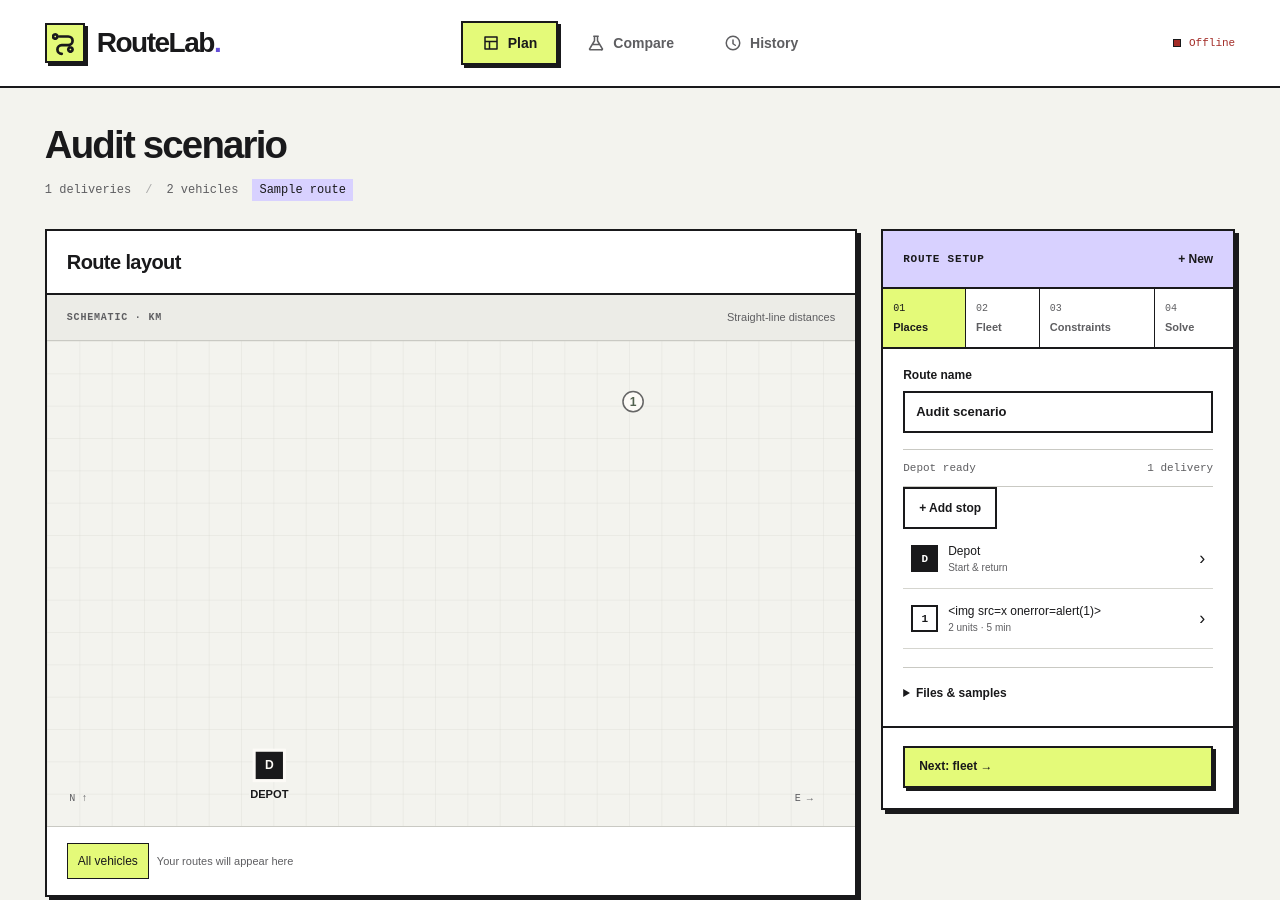
Scenario: workbench interactions › labels replans with the executed repair method in history
The image size is (1280, 900).
Click the button "History" at (761, 43), box [703, 21, 819, 65]
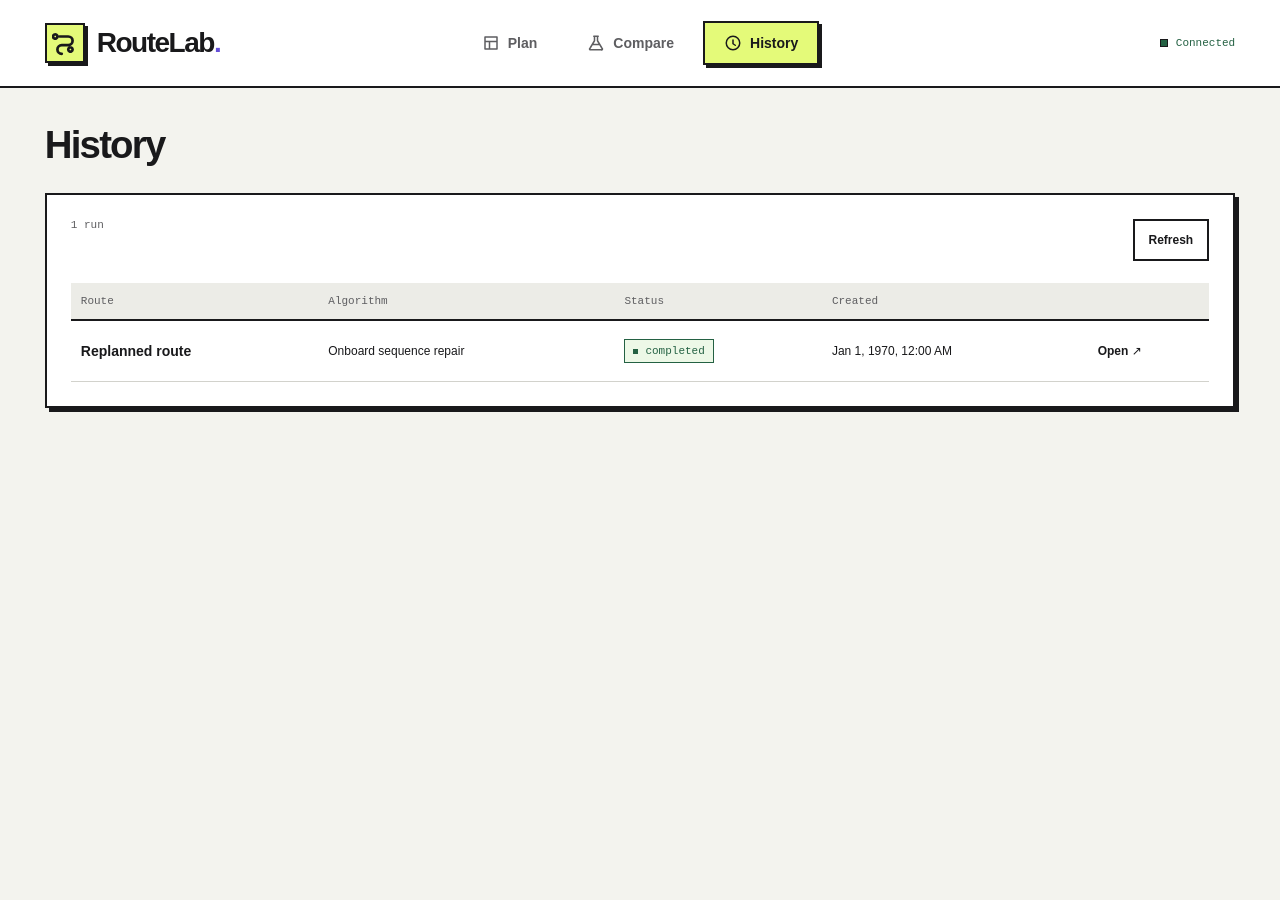
Now the cell "Onboard sequence repair" is shown, box [318, 320, 614, 382]
